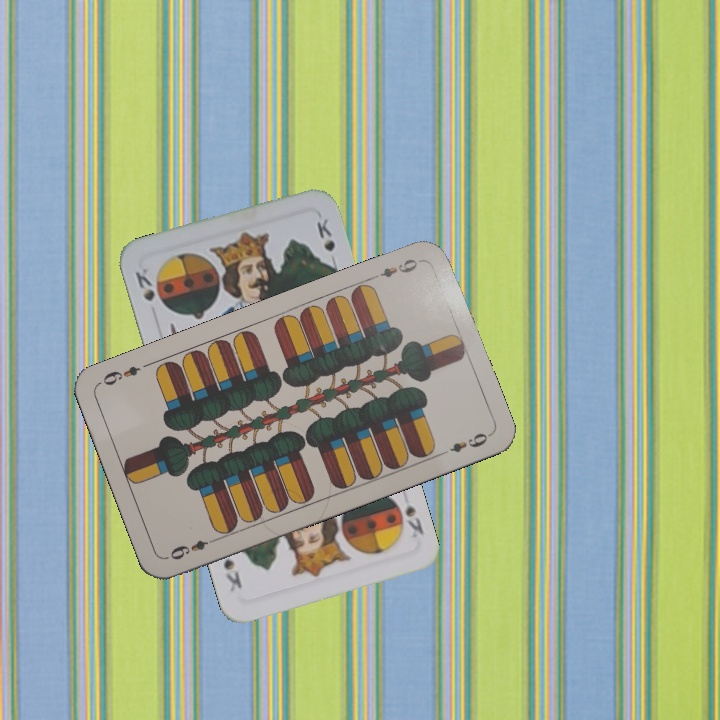E9: (163, 534, 220, 563), (367, 254, 421, 282)
SK: (401, 500, 427, 541), (131, 264, 157, 304)
